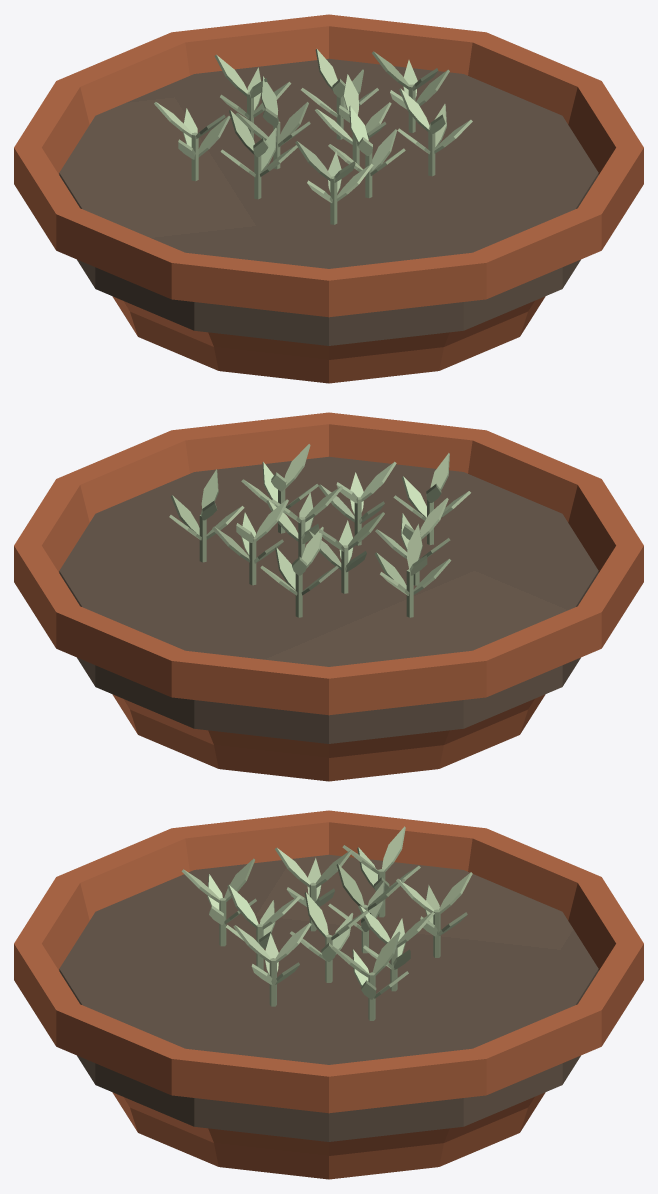
Rendered from moss-glaucum.glb.
The picture shows the model from 3 angles, top to bottom: view 1: azimuth 30°, elevation 25°; view 2: azimuth 150°, elevation 25°; view 3: azimuth 270°, elevation 25°; orthographic projection.
Parts seen in each view (by area): view 1: moss-glaucum/review-rooted-soil, moss-glaucum/review-terra-vessel; view 2: moss-glaucum/review-rooted-soil, moss-glaucum/review-terra-vessel; view 3: moss-glaucum/review-rooted-soil, moss-glaucum/review-terra-vessel.
Boxes of the visible parts, left/top/right/bottom form: moss-glaucum/review-rooted-soil: left=59, top=58, right=598, bottom=345; moss-glaucum/review-terra-vessel: left=14, top=14, right=643, bottom=383; moss-glaucum/review-rooted-soil: left=59, top=456, right=598, bottom=743; moss-glaucum/review-terra-vessel: left=14, top=412, right=643, bottom=781; moss-glaucum/review-rooted-soil: left=59, top=854, right=598, bottom=1141; moss-glaucum/review-terra-vessel: left=14, top=810, right=643, bottom=1179.
Size of the model in its own units: 0.25 by 0.0849 by 0.25.
3 materials, 3 textured.
